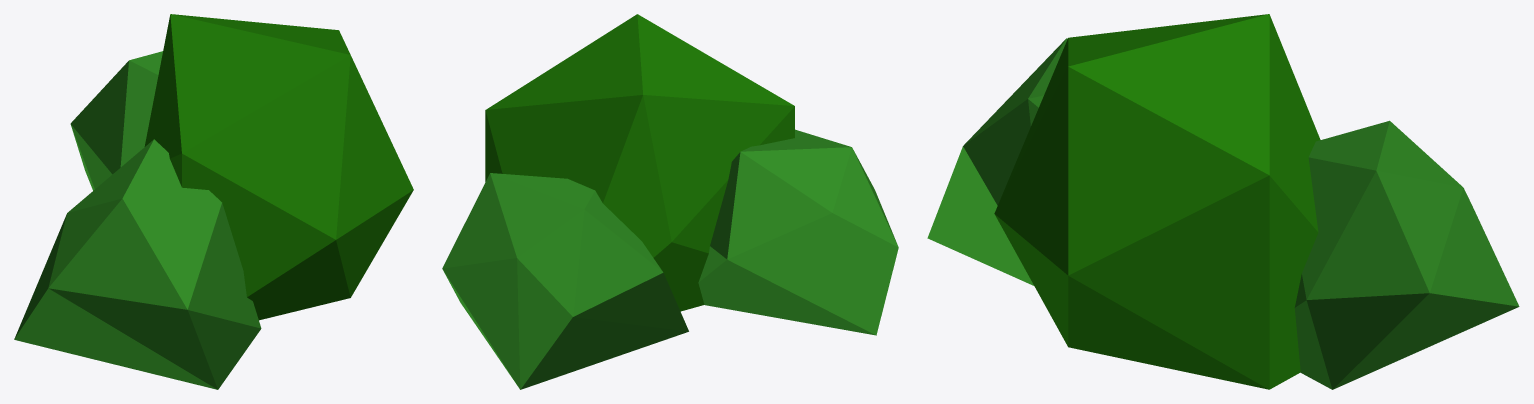
Rendered from bush3.fbx.
The picture shows the model from 3 angles, left to right: view 1: azimuth 30°, elevation 25°; view 2: azimuth 150°, elevation 25°; view 3: azimuth 270°, elevation 25°; orthographic projection. The views are drawn at different scales.
Visible parts, largest first — view 1: Bush3; view 2: Bush3; view 3: Bush3.
Part boxes in pixels (x1,y1,x2,y2): Bush3: [14, 14, 413, 389]; Bush3: [442, 14, 898, 389]; Bush3: [927, 14, 1519, 389].
Size of the model in its own units: 13.02 by 8.15 by 15.55.
